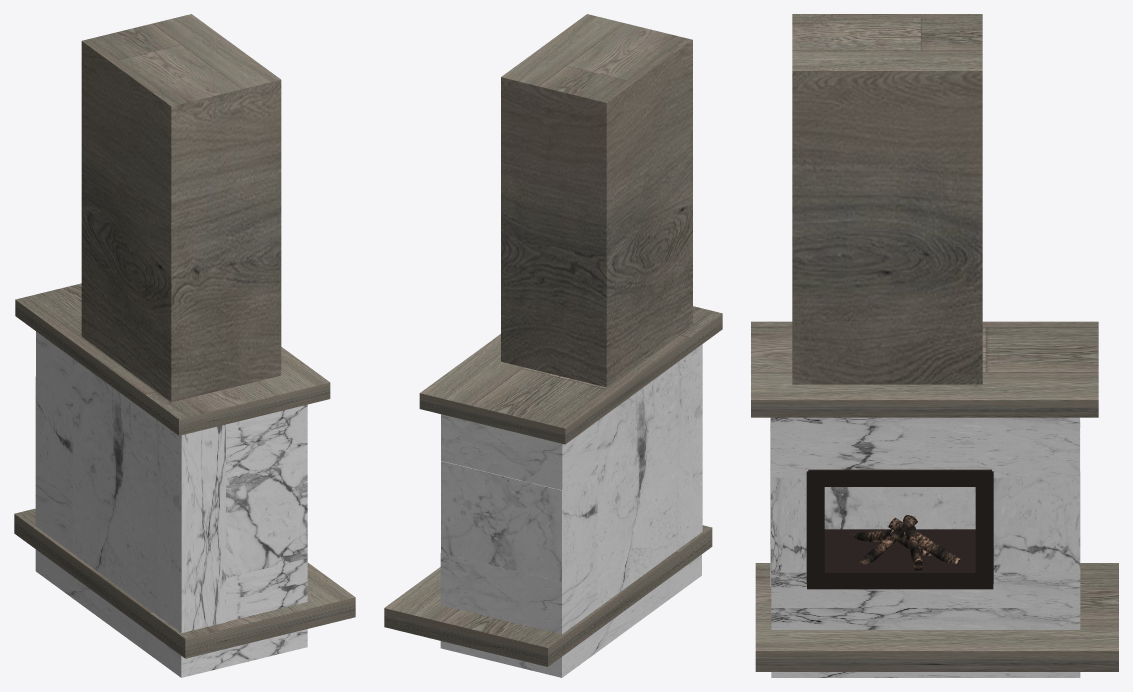
The model's file is hearth.gltf.
3 views of the same model, side by side, from view 1: azimuth 30°, elevation 25°; view 2: azimuth 150°, elevation 25°; view 3: azimuth 270°, elevation 25° (orthographic). The views are drawn at different scales.
Visible parts, largest first — view 1: Cube.003, Cube, Cube.002, Cube.001, Cube.007, Cube.008, Cube.005, Cube.004, Cube.006; view 2: Cube.003, Cube, Cube.006, Cube.002, Cube.001, Cube.005, Cube.008, Cube.004; view 3: Cube.003, Cube.002, Cube.001, Cube.005, Cube.008, Cube.006, Cube.012, Cube.004, Cube, Cube.007, Cube.013, Cube.010 (+3 smaller).
Part boxes in pixels (bbox=[...]): Cube.003: bbox=[81, 14, 281, 402]; Cube: bbox=[72, 358, 225, 632]; Cube.002: bbox=[15, 283, 330, 435]; Cube.001: bbox=[14, 508, 355, 658]; Cube.007: bbox=[226, 458, 307, 577]; Cube.008: bbox=[35, 511, 307, 677]; Cube.005: bbox=[36, 331, 307, 478]; Cube.004: bbox=[35, 472, 307, 620]; Cube.006: bbox=[35, 377, 72, 508]; Cube.003: bbox=[501, 14, 692, 387]; Cube: bbox=[597, 344, 702, 607]; Cube.006: bbox=[441, 461, 597, 591]; Cube.002: bbox=[419, 306, 722, 444]; Cube.001: bbox=[384, 525, 712, 666]; Cube.005: bbox=[441, 414, 597, 495]; Cube.008: bbox=[440, 554, 701, 677]; Cube.004: bbox=[440, 553, 597, 617]; Cube.003: bbox=[792, 14, 982, 384]; Cube.002: bbox=[751, 321, 1098, 417]; Cube.001: bbox=[755, 563, 1118, 671]; Cube.005: bbox=[771, 417, 1079, 477]; Cube.008: bbox=[771, 608, 1080, 677]; Cube.006: bbox=[993, 418, 1080, 572]; Cube.012: bbox=[807, 529, 993, 589]; Cube.004: bbox=[771, 572, 1080, 607]; Cube: bbox=[770, 417, 975, 587]; Cube.007: bbox=[771, 477, 806, 582]; Cube.013: bbox=[808, 469, 991, 486]; Cube.010: bbox=[806, 471, 824, 583].
Bounding box in the file's own units: 5.67 × 17.1 × 9.52.
6 materials, 5 textured.
